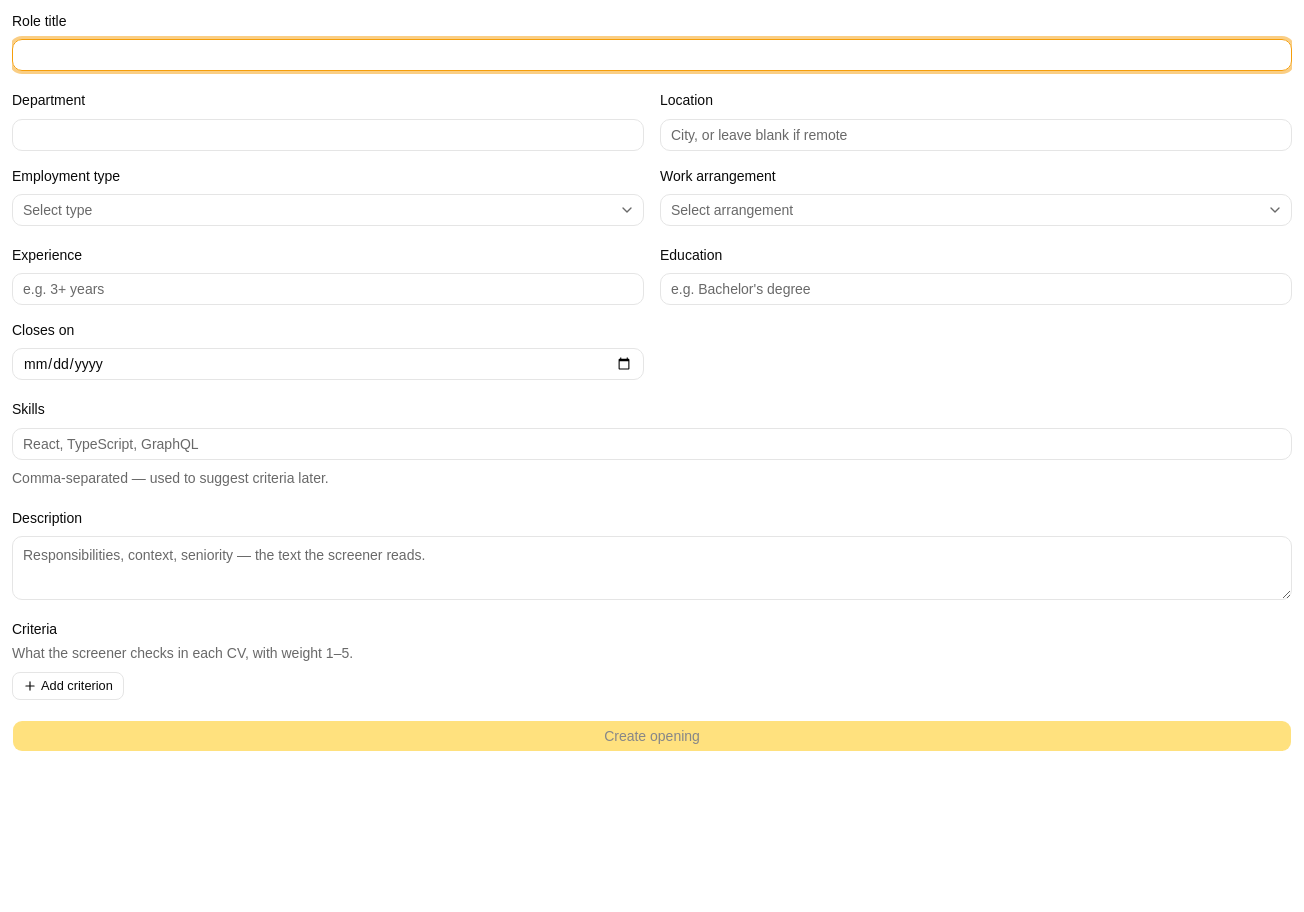
ManualOpeningForm skill suggestions › debounces skill input and appends suggested criteria
In the field labelled "Skills": (652, 444) [12, 428, 1292, 460], type "Graph"
Wait 300 ms
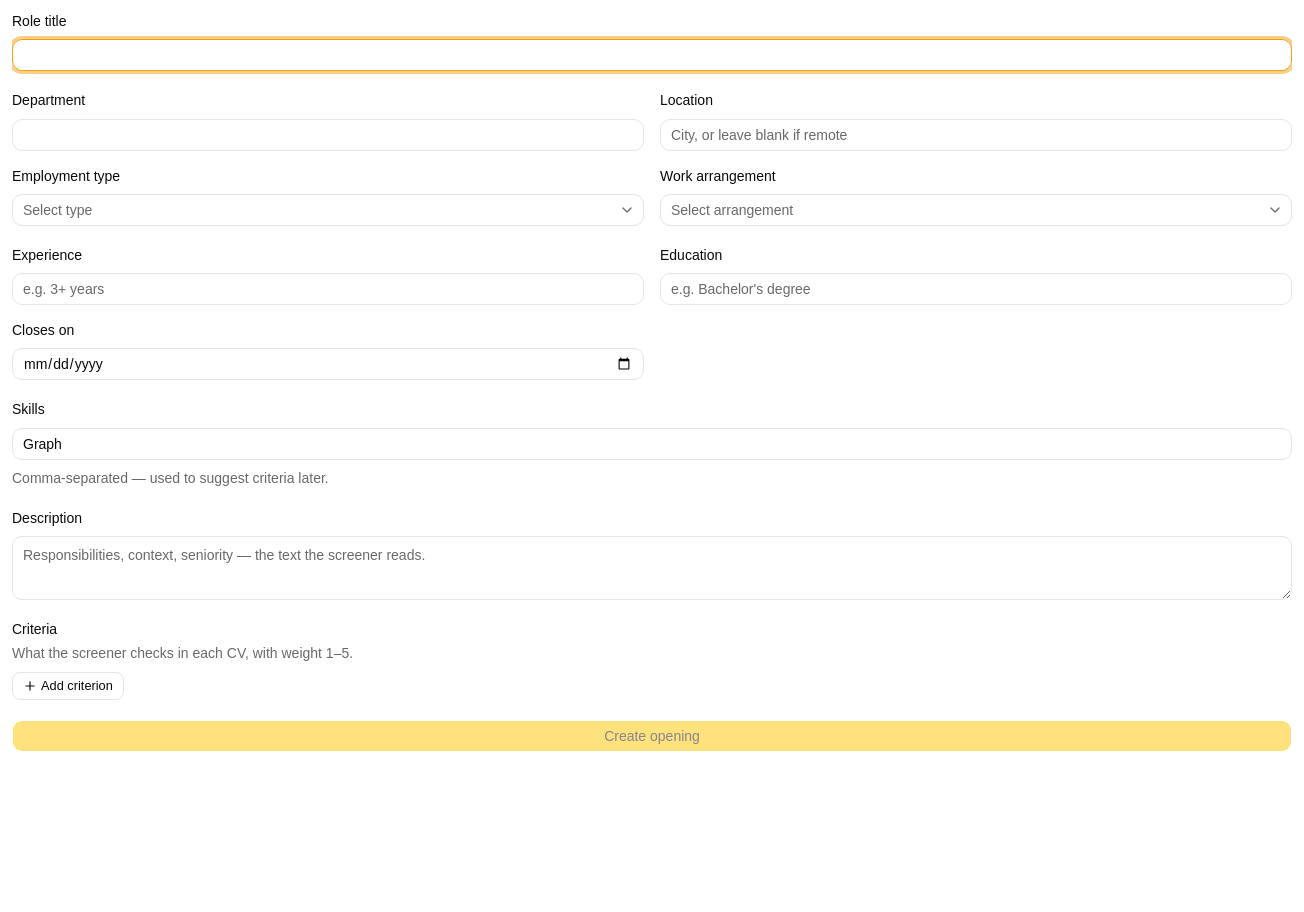
Replace the text in the field labelled "Skills" with "GraphQL": (652, 444) [12, 428, 1292, 460]
Wait 700 ms
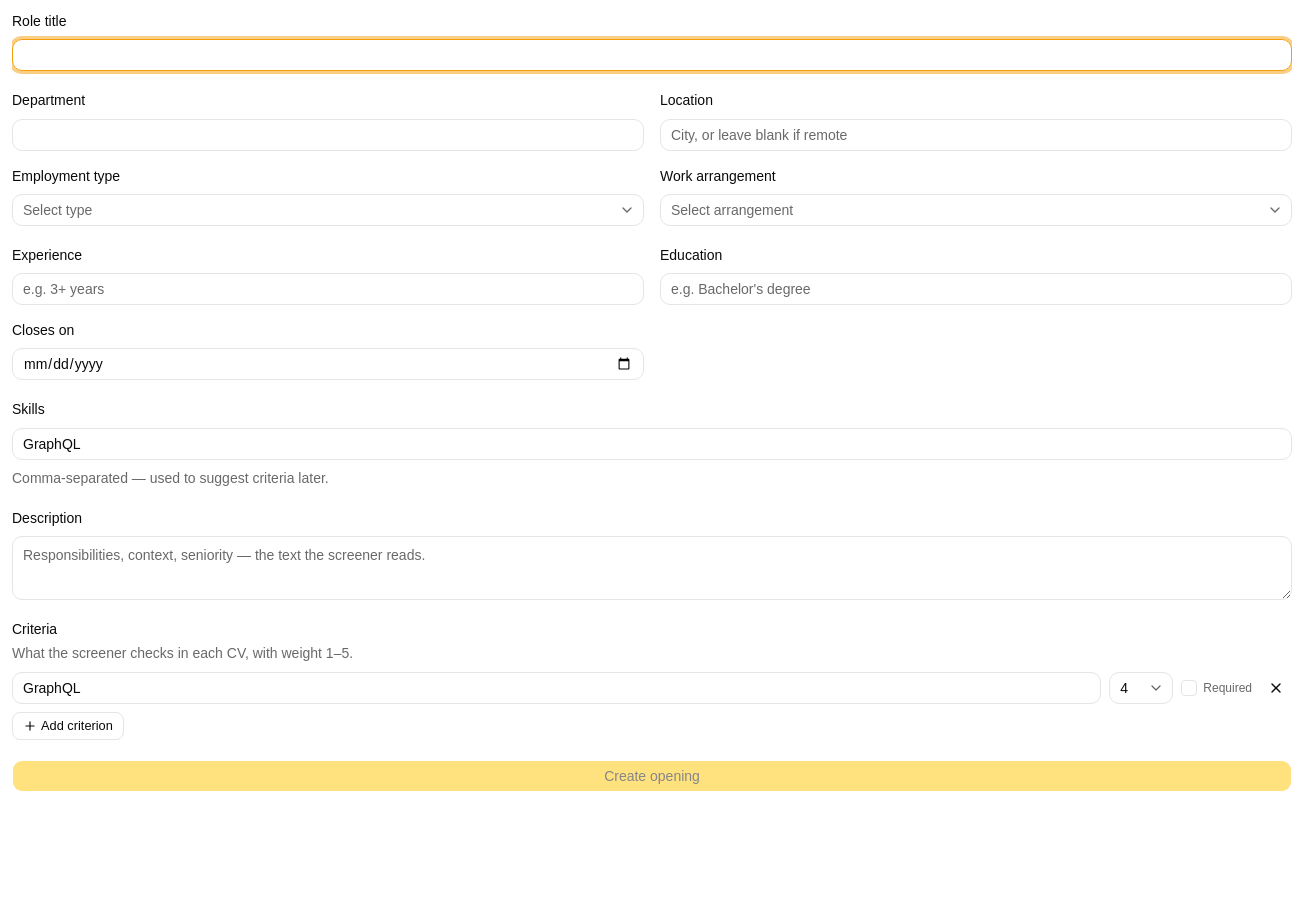
Expected: the number of fields showing "GraphQL" is 2, [12, 428, 1292, 460]; [12, 672, 1101, 704]
Result: the number of fields with placeholder "e.g. React experience" is 1 at [12, 672, 1101, 704]
